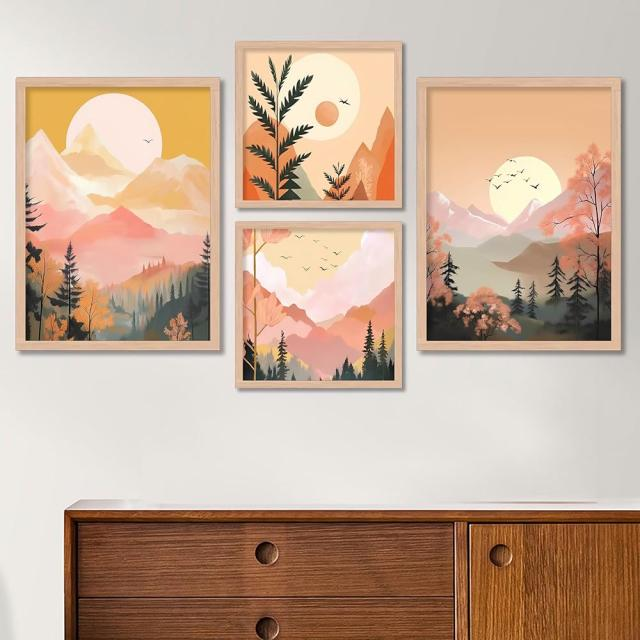painting: (15, 76, 221, 351), (418, 76, 624, 351), (234, 40, 402, 208), (235, 223, 403, 391)
